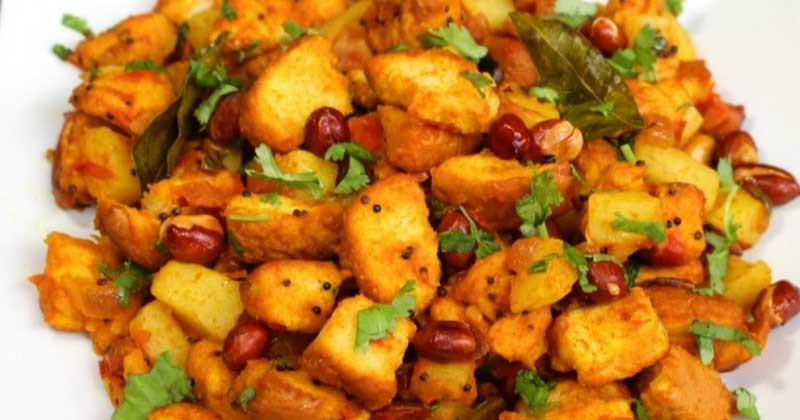AlooMasala: (29, 0, 800, 420)
